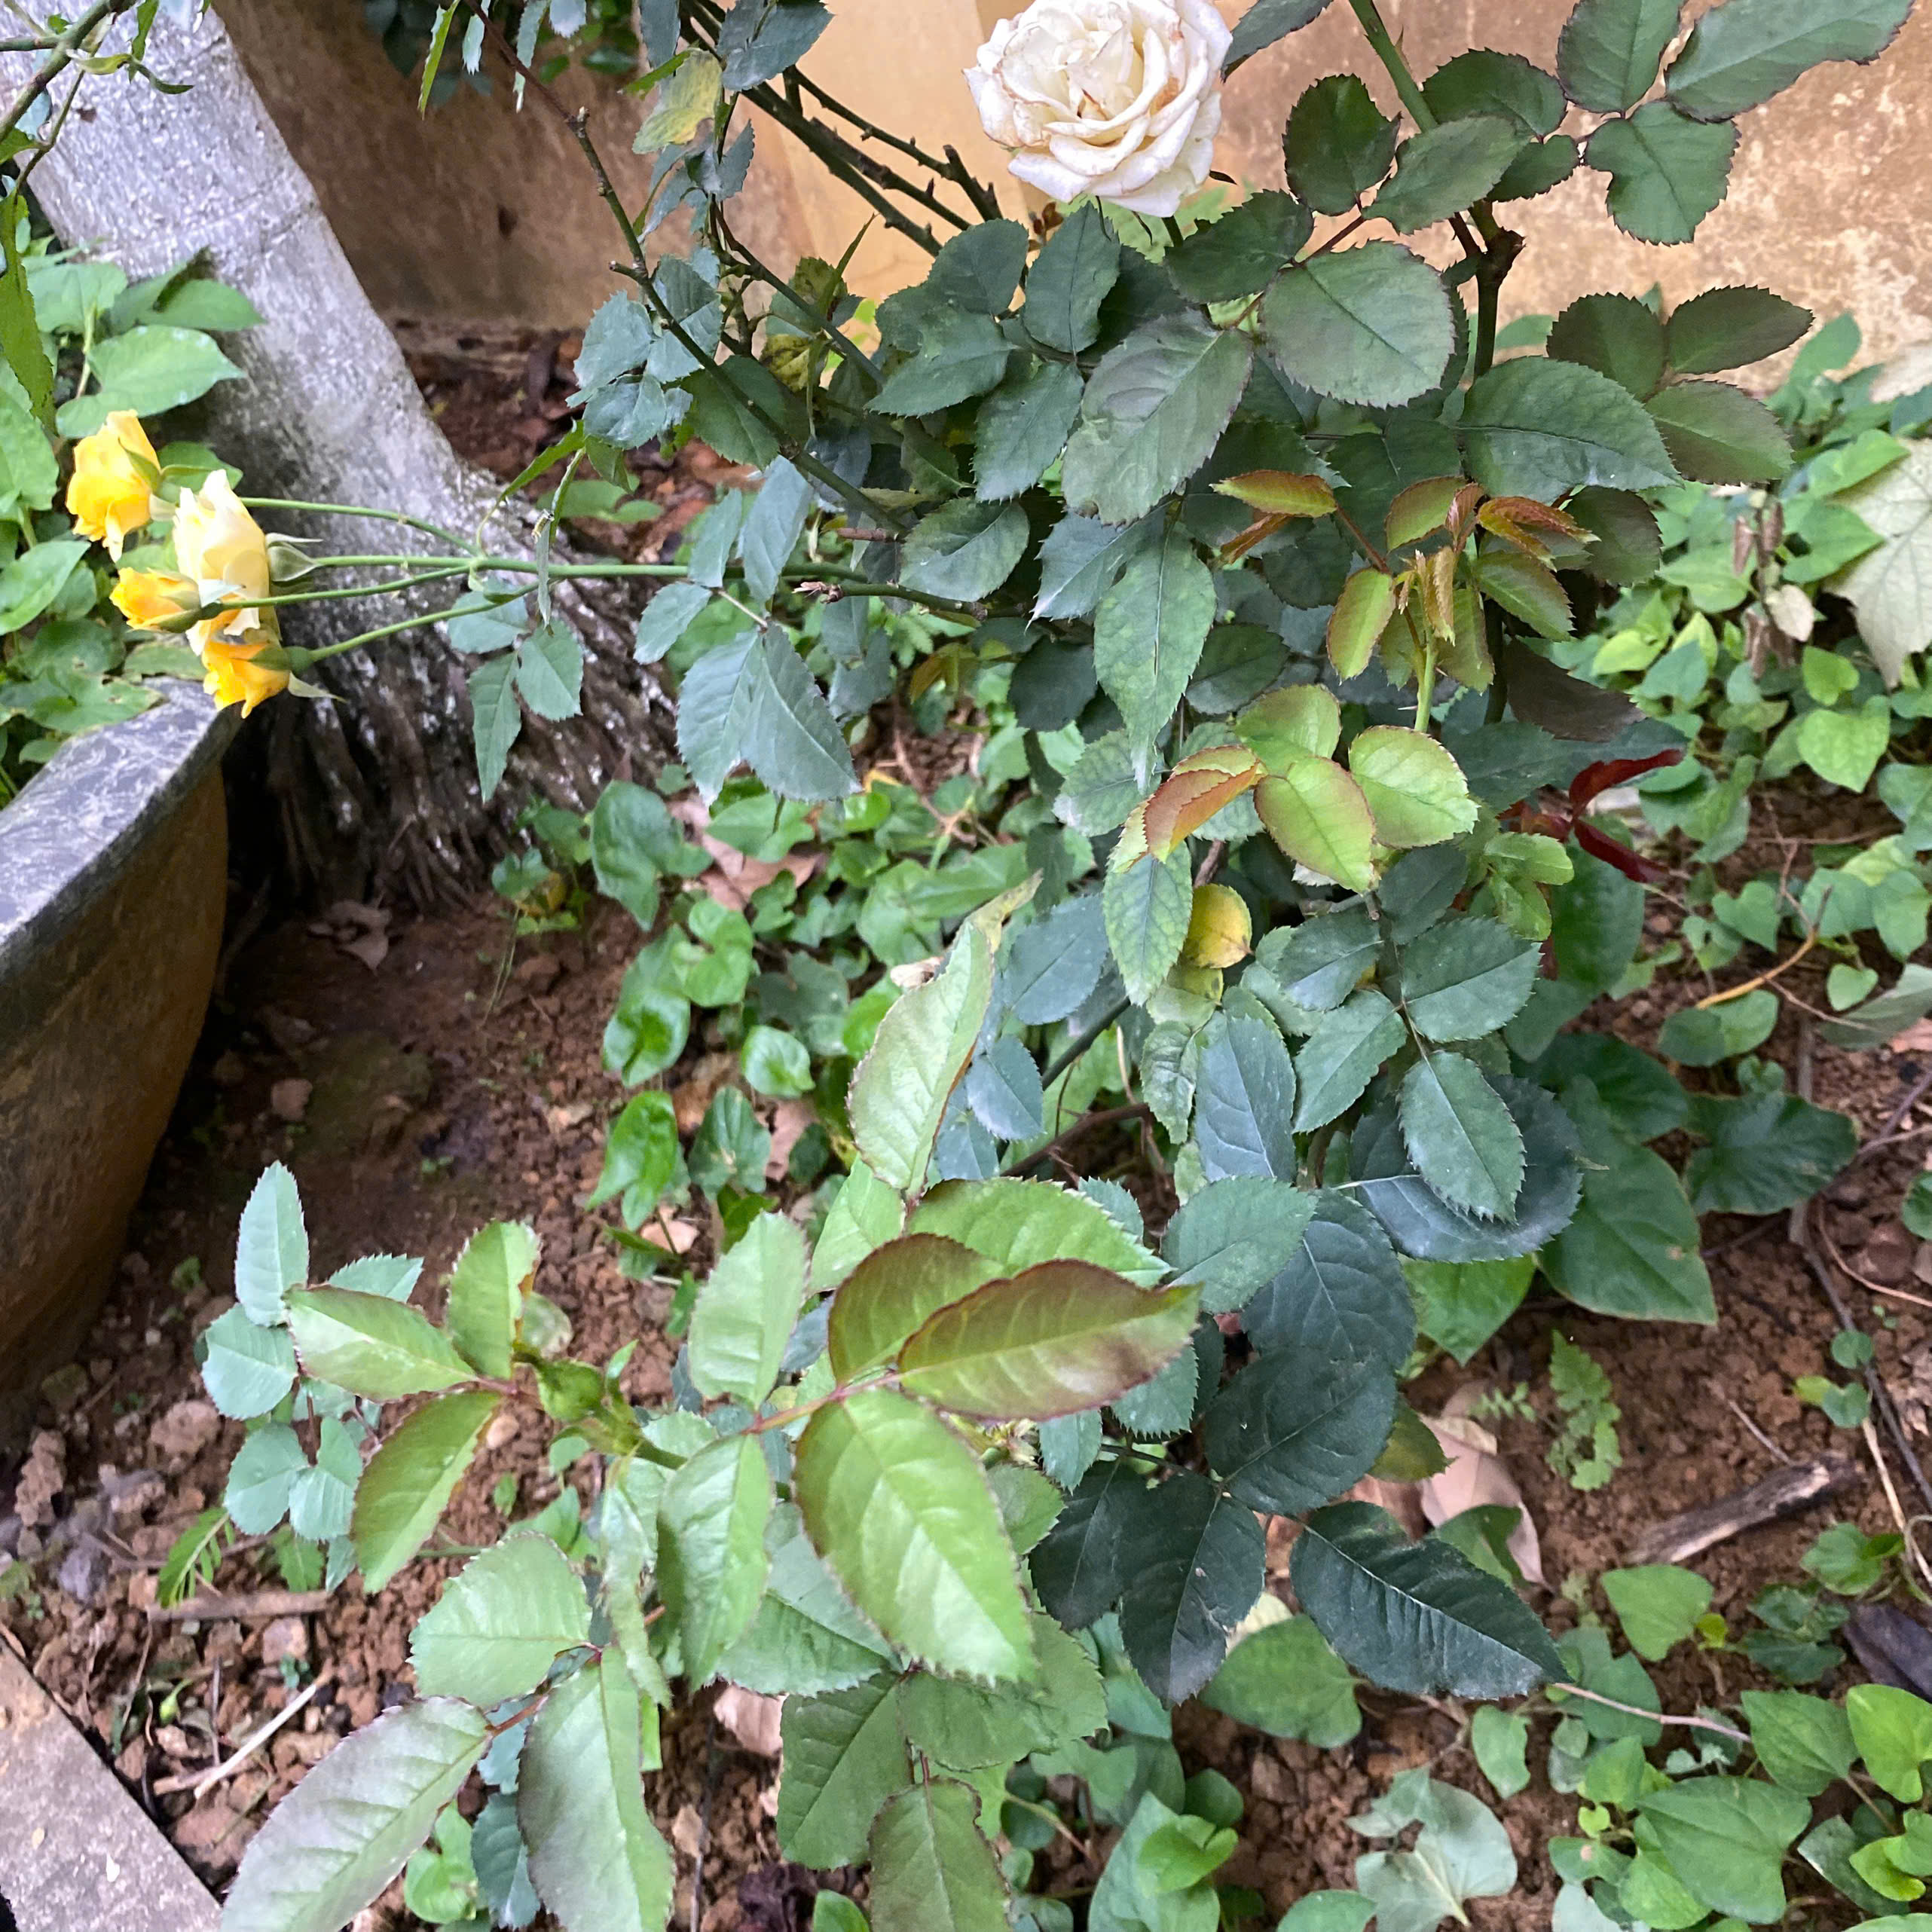hoa_thuoc_duoc: (41, 0, 1930, 1852)
